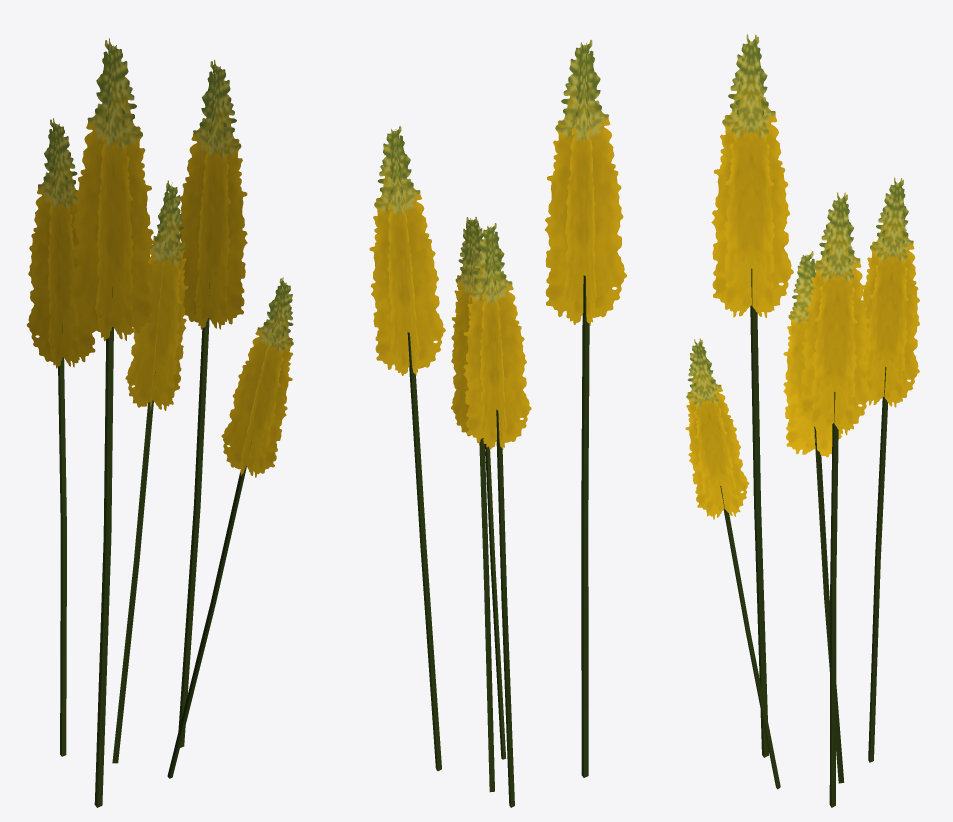
The model's file is Eremurus.fbx.
3 views of the same model, side by side, from view 1: azimuth 30°, elevation 25°; view 2: azimuth 150°, elevation 25°; view 3: azimuth 270°, elevation 25° (orthographic). The views are drawn at different scales.
Visible parts, largest first — view 1: Eremurus; view 2: Eremurus; view 3: Eremurus.
Part boxes in pixels (x1=…): Eremurus: x1=26, y1=38, x2=293, y2=807; Eremurus: x1=369, y1=40, x2=626, y2=807; Eremurus: x1=685, y1=34, x2=919, y2=807.
Size of the model in its own units: 26.41 by 88.03 by 30.21.
